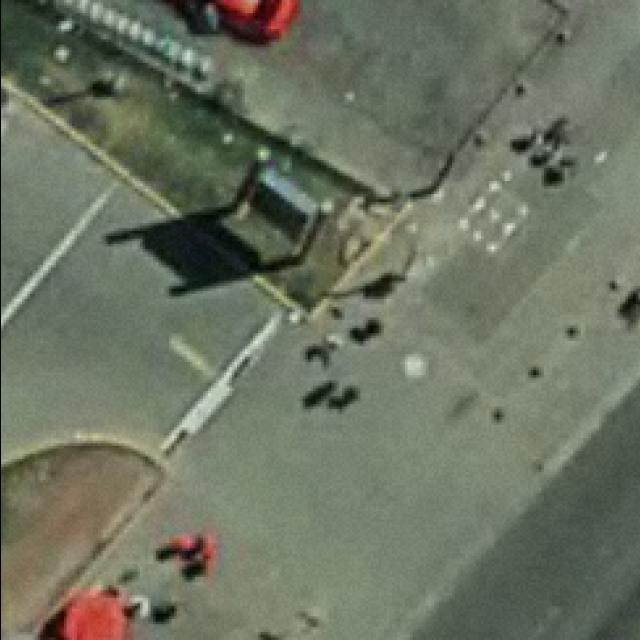vendedor_ambulante: (50, 582, 136, 640)
